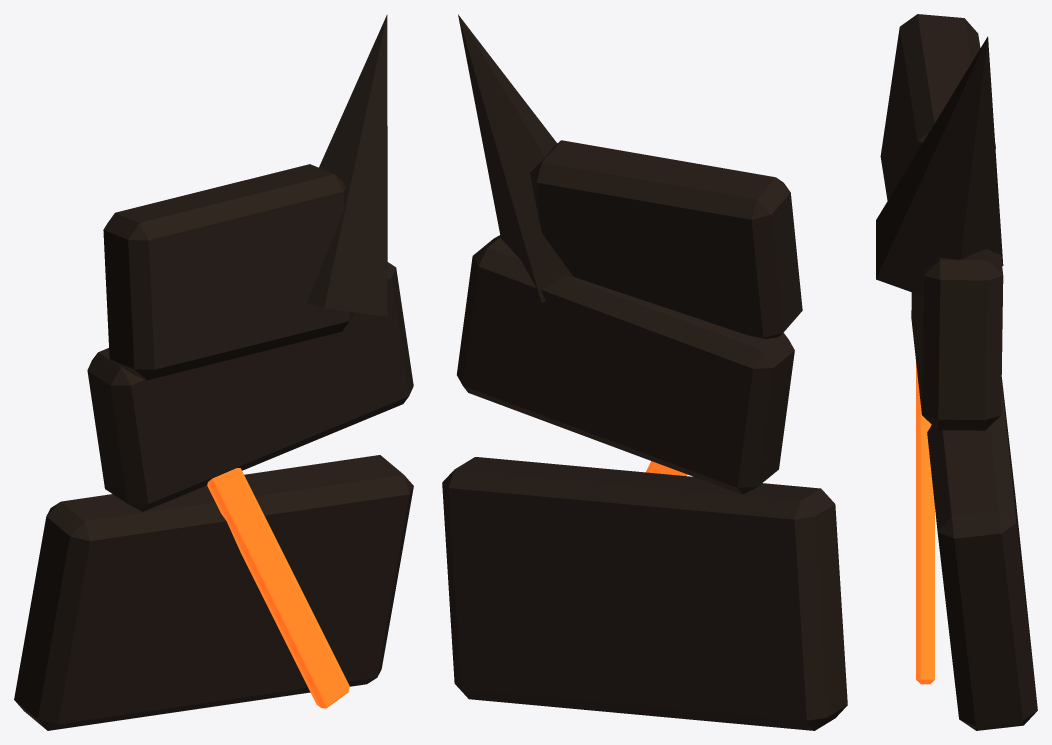
Rendered from charred_plate.glb.
3 views of the same model, side by side, from view 1: azimuth 30°, elevation 25°; view 2: azimuth 150°, elevation 25°; view 3: azimuth 270°, elevation 25° (orthographic). The views are drawn at different scales.
Parts seen in each view (by area): view 1: part.charred_plate; view 2: part.charred_plate; view 3: part.charred_plate.
Part boxes in pixels (<box>): part.charred_plate: <box>14,14,413,730</box>; part.charred_plate: <box>442,14,847,730</box>; part.charred_plate: <box>876,14,1037,730</box>.
Bounding box in the file's own units: 0.2962 × 0.4926 × 0.102.
